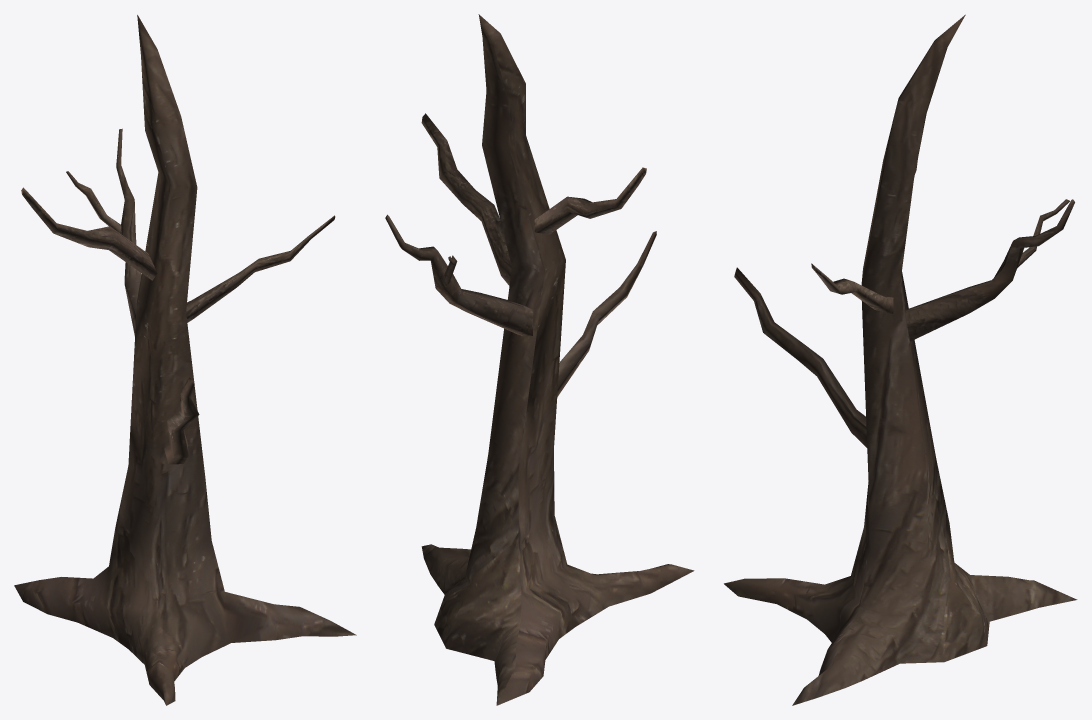
The model's file is Tree_dead_2.FBX.
3 renders of one model, left to right at view 1: azimuth 30°, elevation 25°; view 2: azimuth 150°, elevation 25°; view 3: azimuth 270°, elevation 25°, orthographic. The views are drawn at different scales.
Parts seen in each view (by area): view 1: Object008; view 2: Object008; view 3: Object008.
Boxes of the visible parts, box(x1,y1,x2,y2) form: Object008: box(14, 15, 356, 705); Object008: box(385, 14, 694, 705); Object008: box(724, 14, 1077, 705).
Bounding box in the file's own units: 63.79 × 133 × 68.49.
